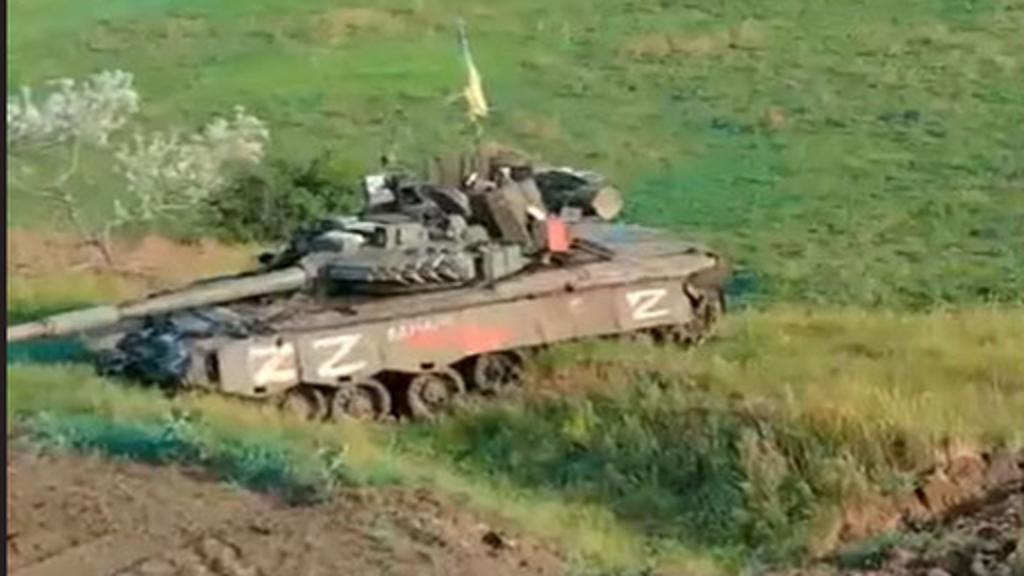TANK: (6, 134, 734, 416)
